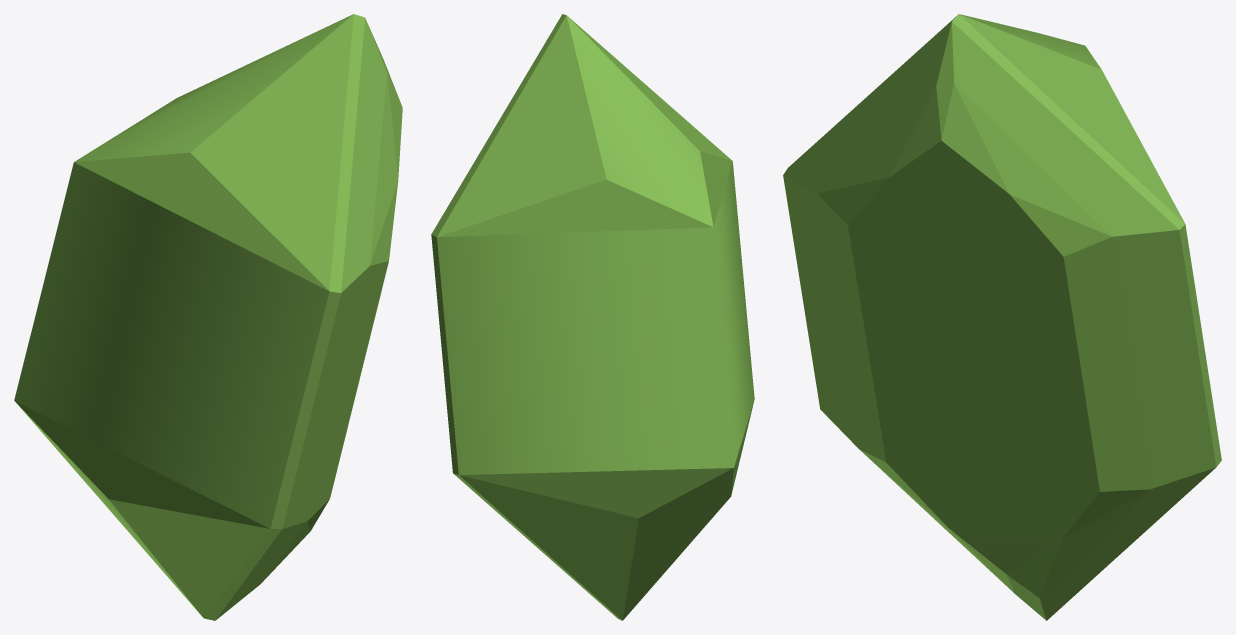
Rendered from TR4_8shapes_Hex_Classic_Stone.001 2.glb.
3 renders of one model, left to right at view 1: azimuth 30°, elevation 25°; view 2: azimuth 150°, elevation 25°; view 3: azimuth 270°, elevation 25°, orthographic. The views are drawn at different scales.
Parts seen in each view (by area): view 1: TR4_8shapes_Hex_Classic_Stone.001; view 2: TR4_8shapes_Hex_Classic_Stone.001; view 3: TR4_8shapes_Hex_Classic_Stone.001.
Part boxes in pixels (bbox=[...]): TR4_8shapes_Hex_Classic_Stone.001: bbox=[14, 14, 402, 620]; TR4_8shapes_Hex_Classic_Stone.001: bbox=[431, 14, 754, 620]; TR4_8shapes_Hex_Classic_Stone.001: bbox=[783, 14, 1221, 620].
Bounding box in the file's own units: 0.3554 × 0.6443 × 0.3894.
